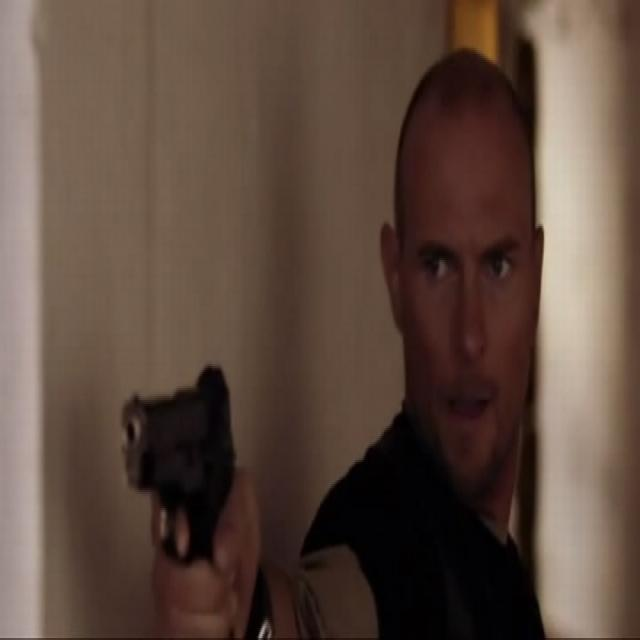weapons: (112, 352, 268, 622)
